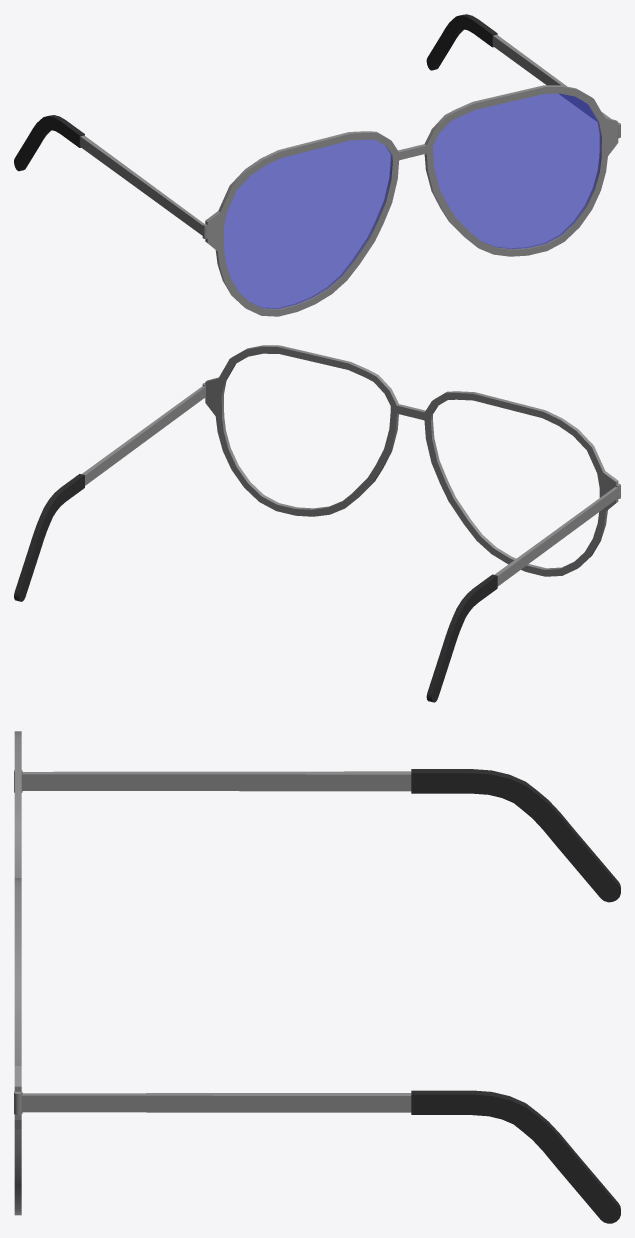
3 views of the same model, one above another, from view 1: azimuth 30°, elevation 25°; view 2: azimuth 150°, elevation 25°; view 3: azimuth 270°, elevation 25° (orthographic). The views are drawn at different scales.
Visible parts, largest first — view 1: Lens, Gray, Material.002; view 2: Gray, Material.002; view 3: Gray, Material.002.
Boxes of the visible parts, left/top/right/bottom form: Lens: left=224, top=93, right=601, bottom=309; Gray: left=80, top=34, right=620, bottom=316; Material.002: left=14, top=14, right=497, bottom=171; Gray: left=82, top=345, right=620, bottom=586; Material.002: left=14, top=474, right=497, bottom=702; Gray: left=14, top=731, right=411, bottom=1215; Material.002: left=411, top=769, right=620, bottom=1223.
Bounding box in the file's own units: 2.06 × 0.7769 × 1.62.
